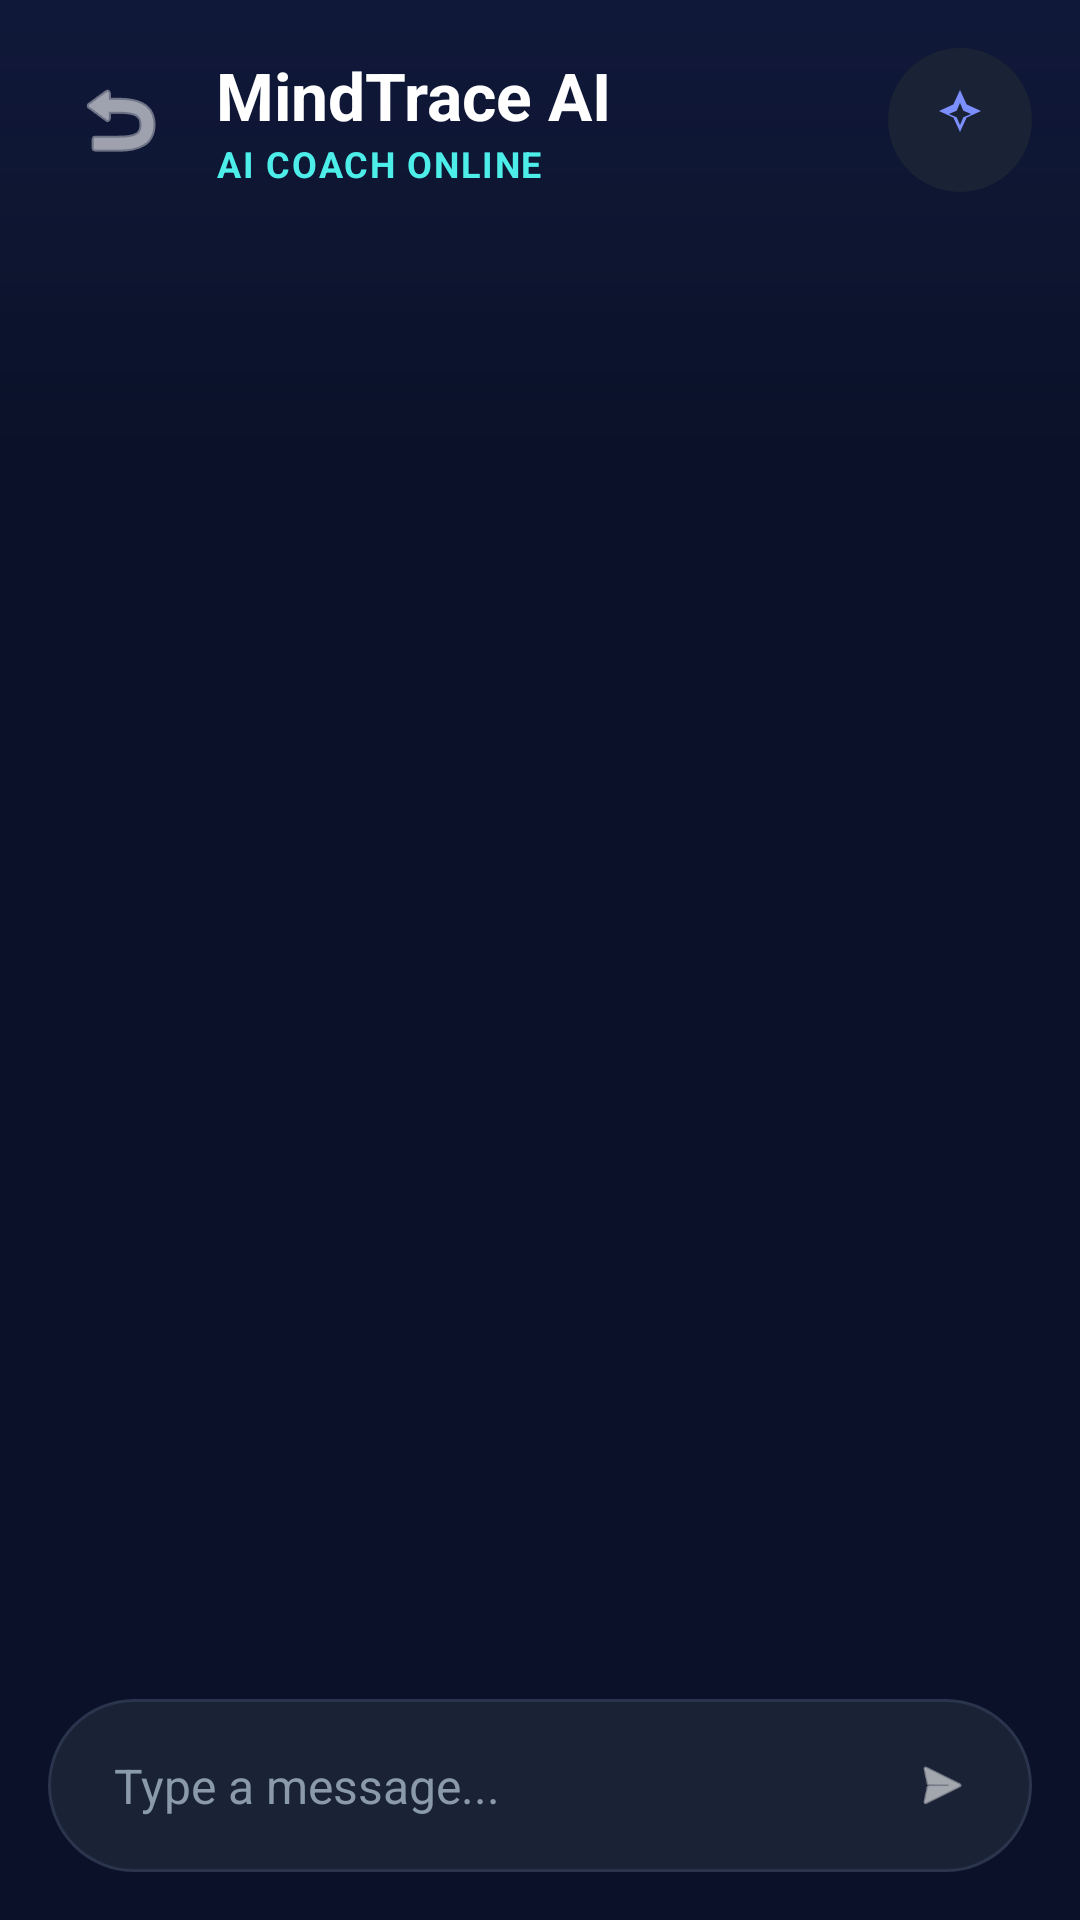

Point at icon controls on the screen. Image size 1080*1920, points as (x=x, y=y).
Back: (x=121, y=120)
send: (x=942, y=1785)
